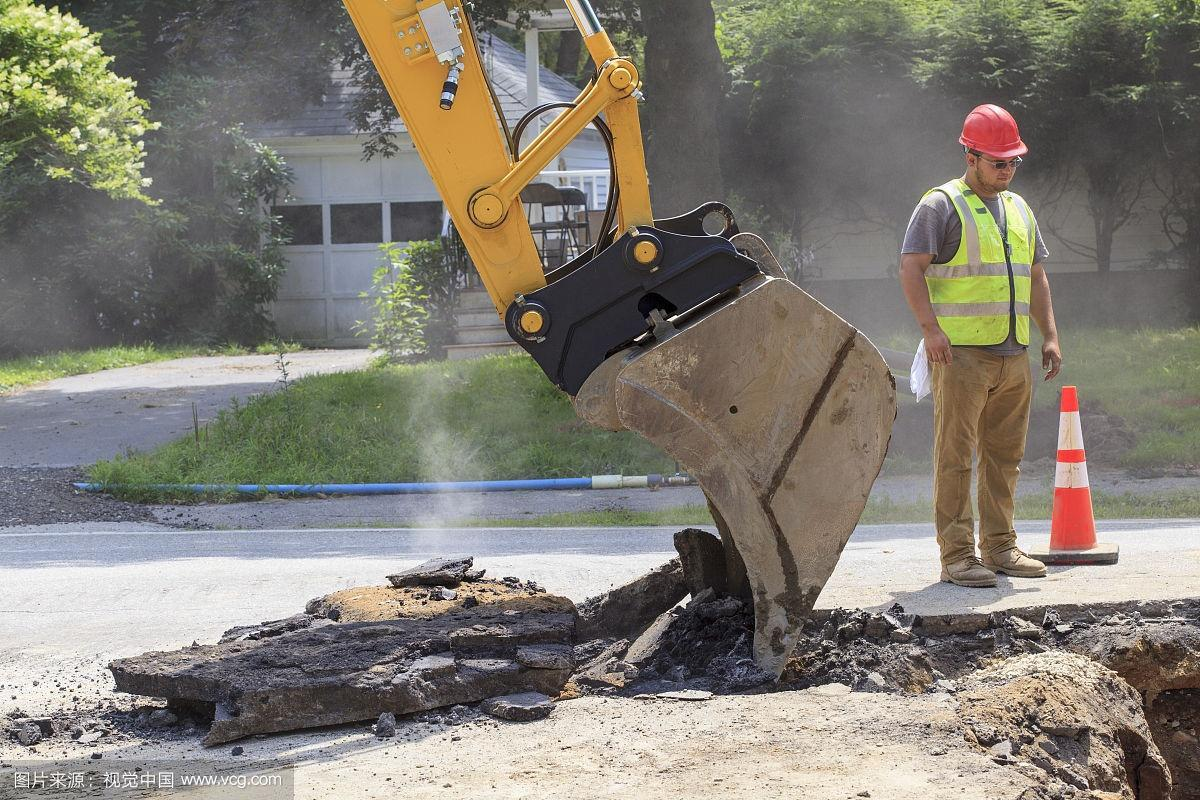helmet: (954, 99, 1031, 163)
person: (897, 99, 1068, 586)
vest: (931, 185, 1045, 347)
